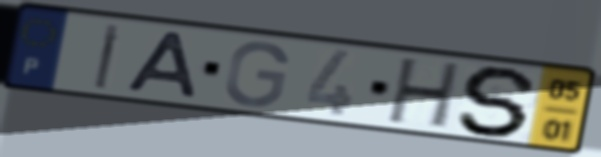4: (302, 47, 357, 120)
A: (121, 29, 201, 101)
G: (221, 38, 292, 109)
H: (383, 56, 466, 132)
I: (91, 21, 126, 92)
S: (454, 64, 543, 139)
